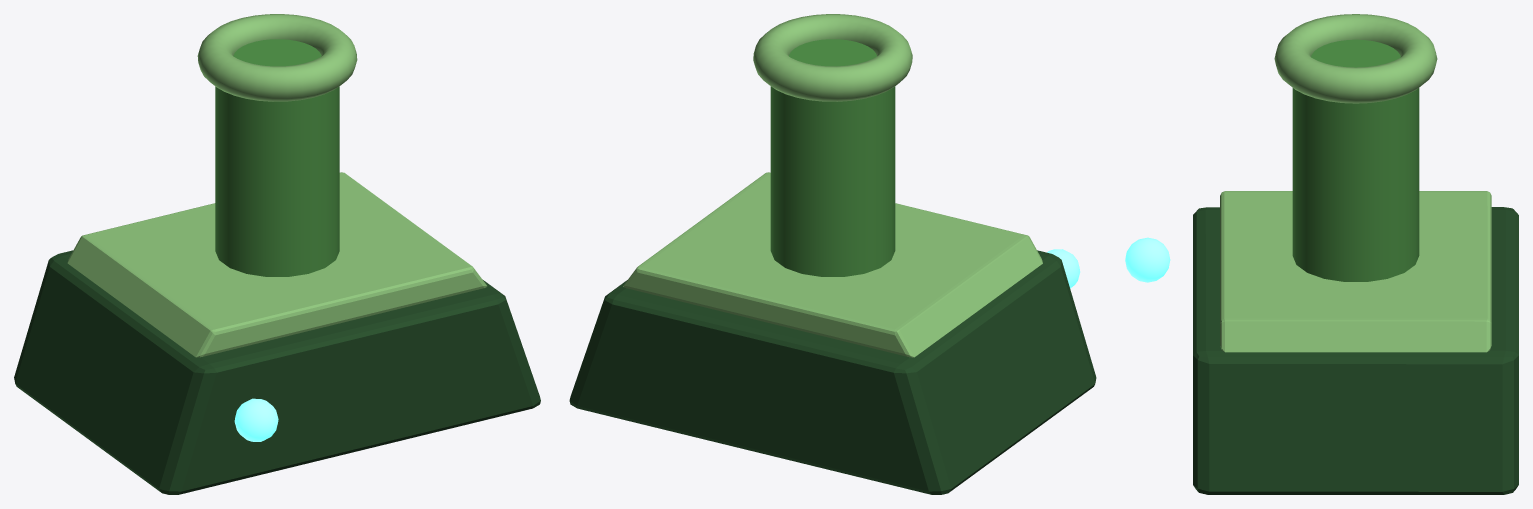
The model's file is laser_r.glb.
The picture shows the model from 3 angles, left to right: view 1: azimuth 30°, elevation 25°; view 2: azimuth 150°, elevation 25°; view 3: azimuth 270°, elevation 25°; orthographic projection.
Parts seen in each view (by area): view 1: plinth, plate, column, collar, lamp; view 2: plinth, plate, column, collar; view 3: plinth, plate, column, collar, lamp.
Part boxes in pixels (box(x1,y1,x2,y2)): plinth: box(14, 250, 540, 494); plate: box(67, 172, 487, 357); column: box(215, 39, 339, 276); collar: box(197, 14, 357, 101); lamp: box(234, 398, 278, 441); plinth: box(569, 250, 1096, 494); plate: box(623, 172, 1042, 357); column: box(770, 39, 895, 276); collar: box(753, 14, 912, 101); plinth: box(1193, 207, 1518, 494); plate: box(1220, 191, 1491, 352); column: box(1292, 39, 1419, 281); collar: box(1274, 14, 1437, 103); lamp: box(1125, 237, 1170, 282).
Size of the model in its own units: 9.9 by 8.8 by 8.7.
